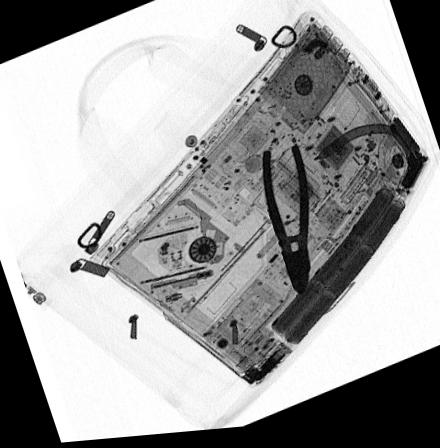Pliers: (259, 146, 313, 303)
